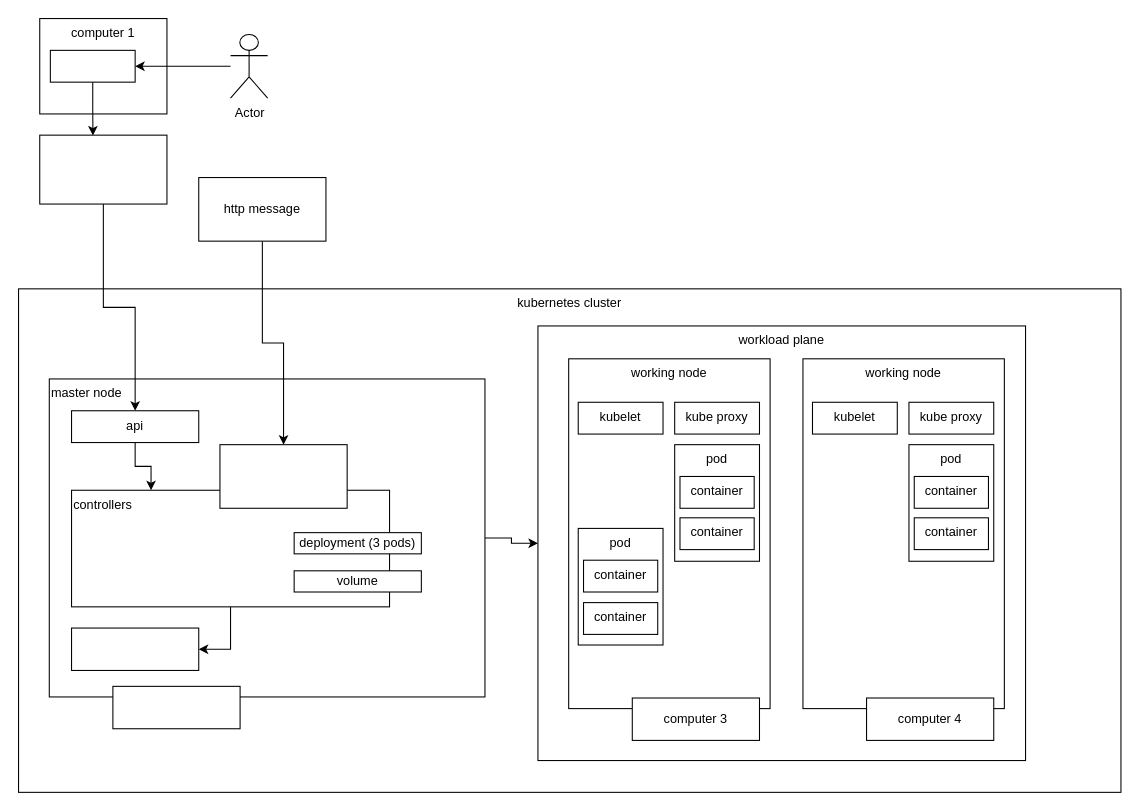
The diagram is 1139 pixels wide and 811 high, and some of its shapes have lost their labels. Here are the shapes that lost their labels. From the top down, the centre of each, then its label:
(92,65): kubectl
(103,169): chema: - deployment - service - volume
(283,476): service / app
(134,648): etc
(176,707): computer 2
